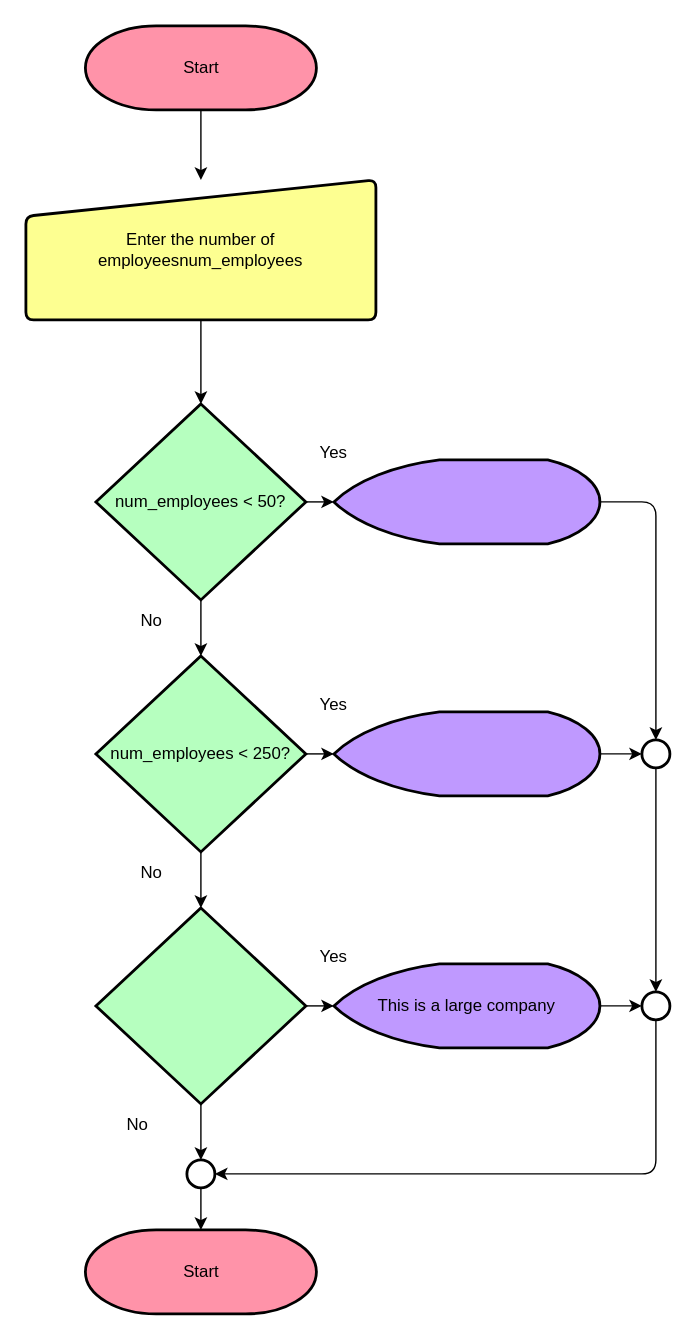
Image size: 694x1338. Some labels were removed from this diagram. The centre of each missing label's shape, as x and y in pixels:
"num_employees >=250?" goes at point (200, 1005).
"This is a medum-sized company" goes at point (466, 753).
"This is small company" goes at point (466, 501).
